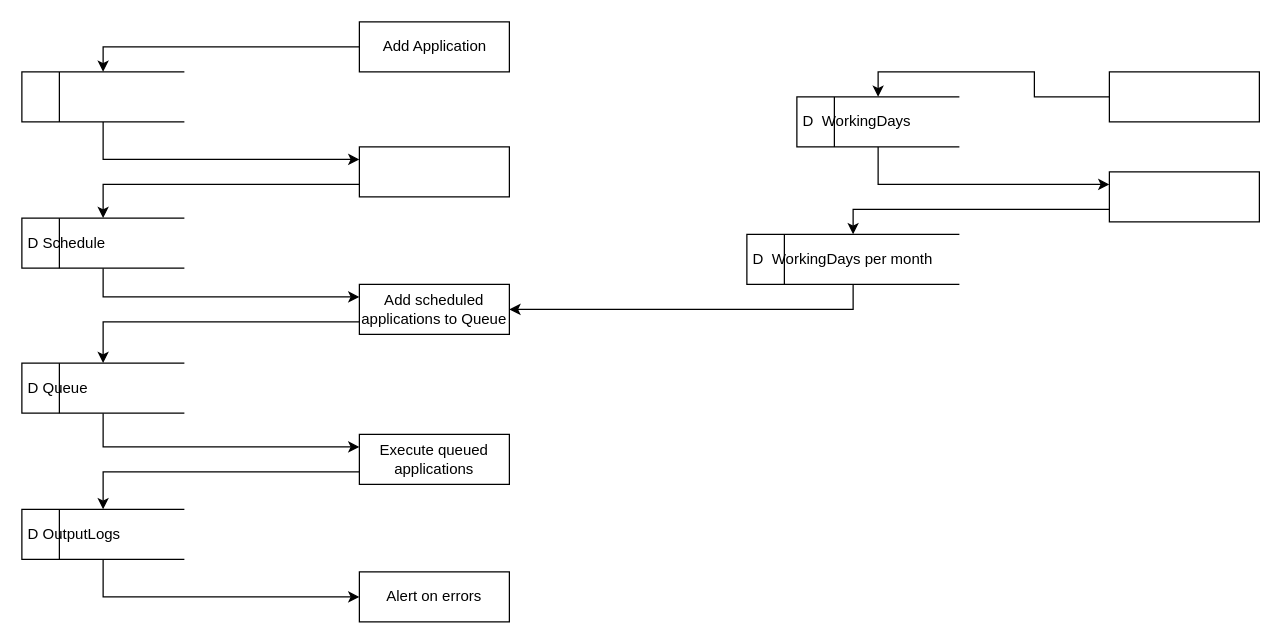
This 1281x644 diagram has some shape labels left out. The centre of each missing label's shape, as x and y in pixels:
Add Application to Schedule: (433,171)
Create cumulative workingdays per month: (1183,196)
D Application: (102,96)
Upload workingdays scheme: (1183,96)
